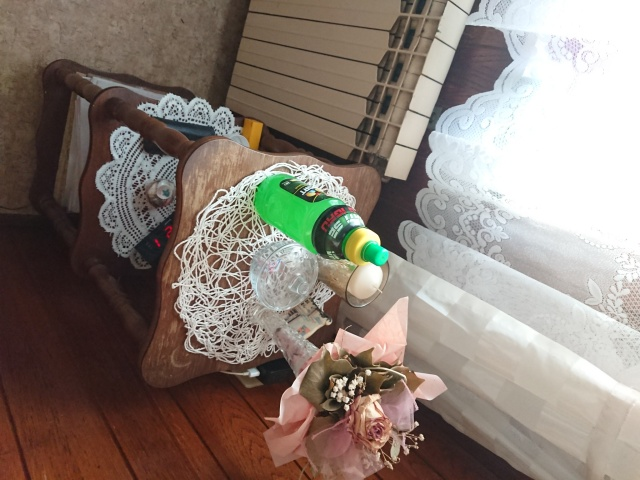Vindi Iso Sport Lemon-Grapefruit 500mL: (251, 171, 391, 268)
